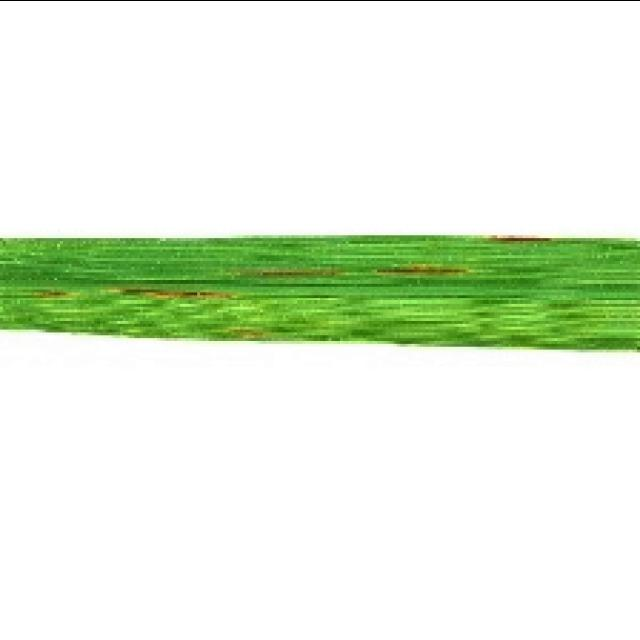Unhealthy: (375, 263, 466, 277), (121, 287, 233, 297), (223, 323, 267, 340), (21, 286, 71, 299), (261, 269, 338, 277), (487, 235, 551, 241)
